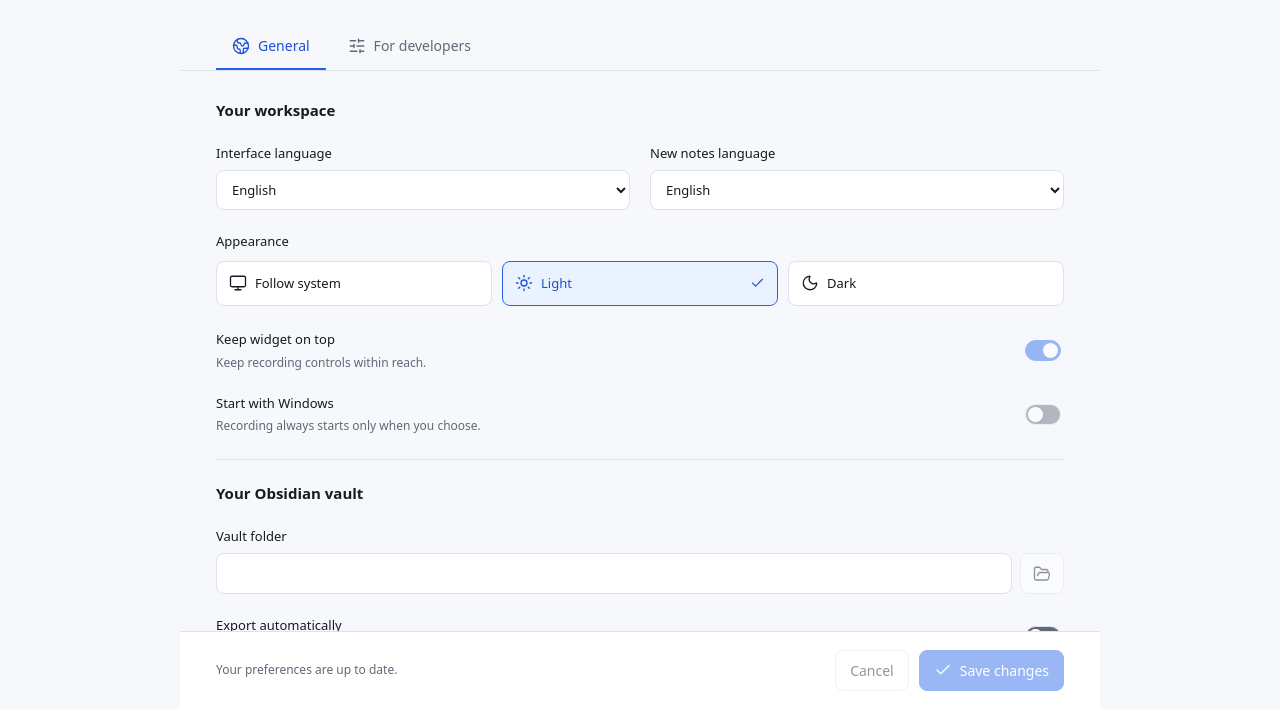
Test case: keeps edits visible after a save failure
Click the tab "For developers" at (409, 46), box 332,23 -> 487,70
(page scrolled)
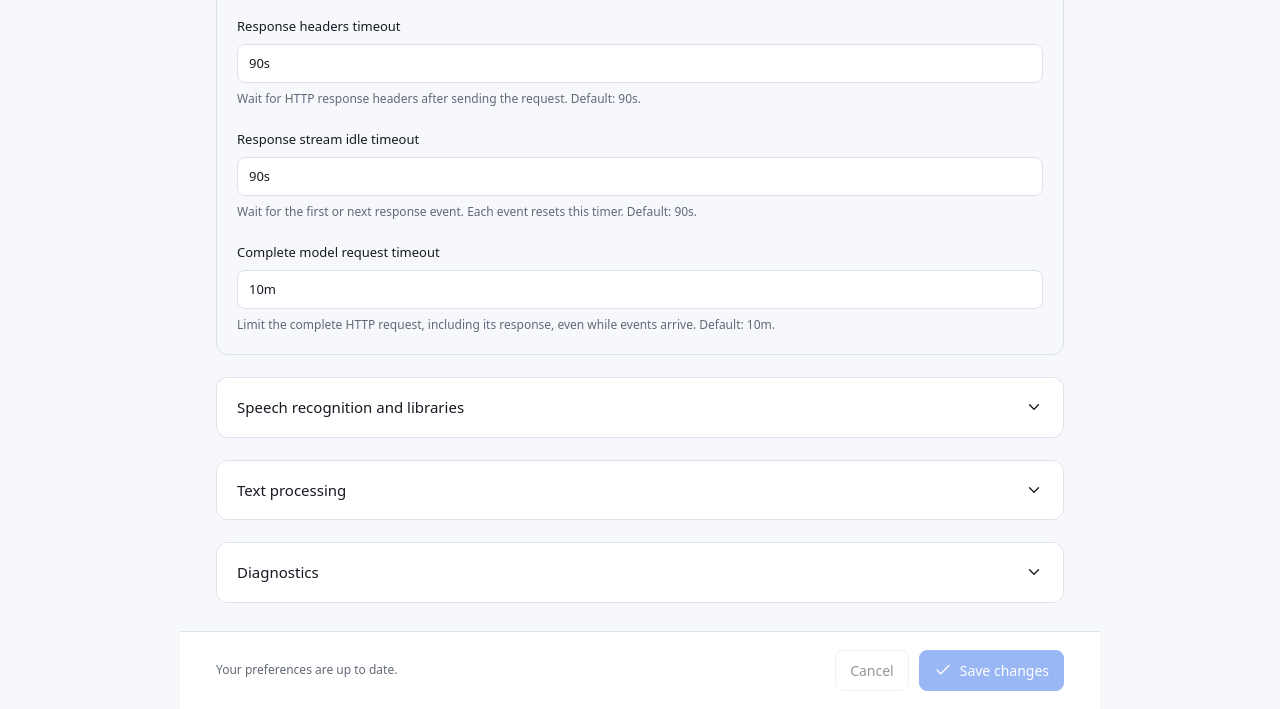
Click the button "Speech recognition and libraries" at (351, 407), box 217,378 -> 1063,436
(page scrolled)
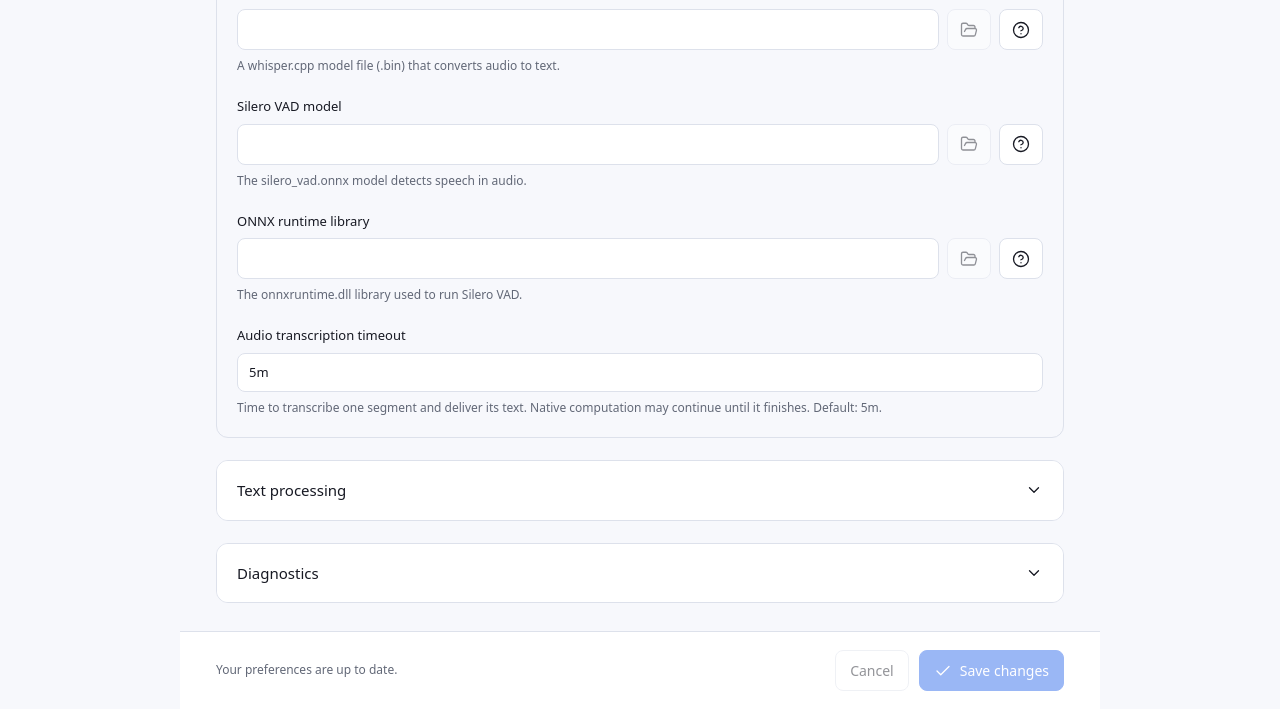
Clear the field labelled "Audio transcription timeout" at (640, 372), box 237,352 -> 1043,392
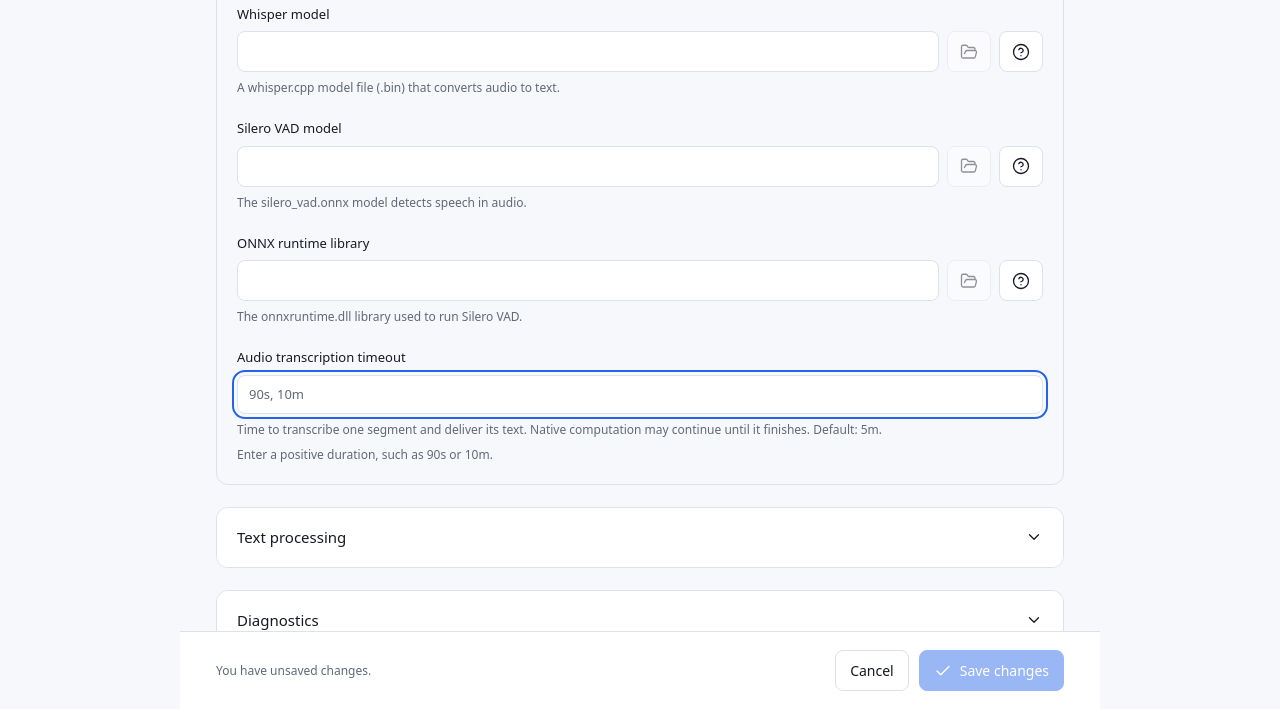
Type "8m" into the field labelled "Audio transcription timeout" at (640, 394), box 237,374 -> 1043,414
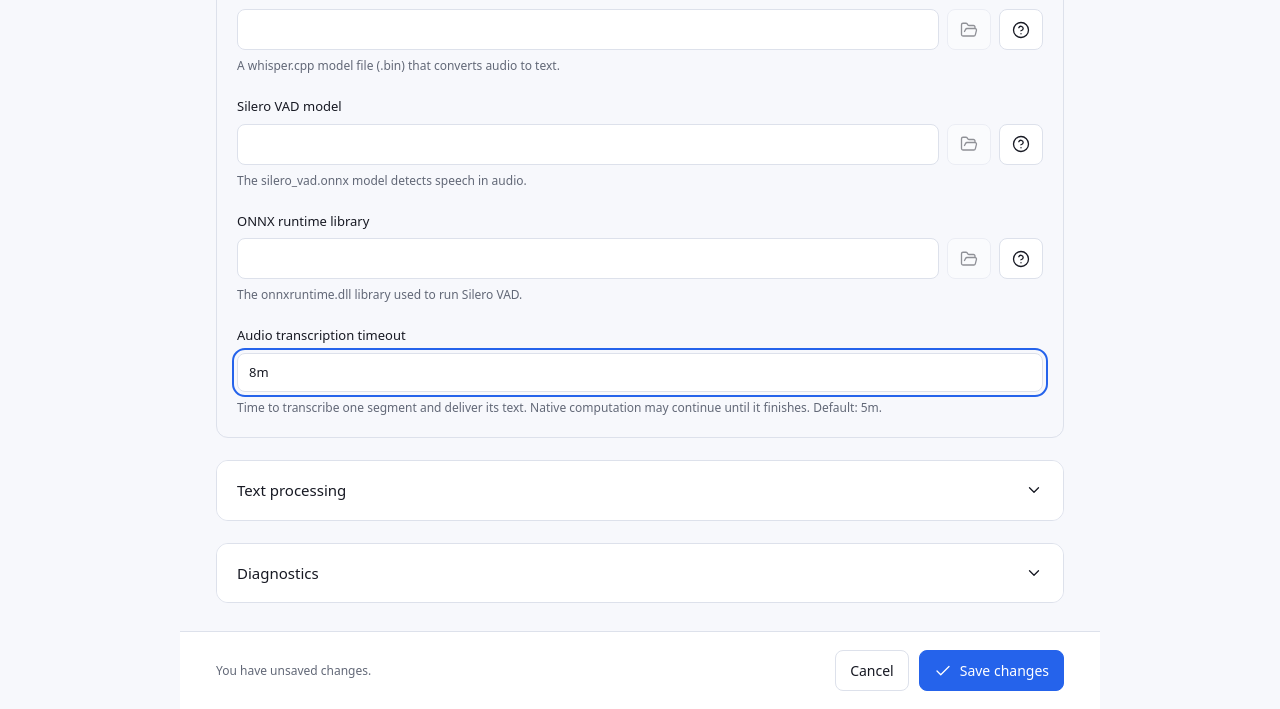
Click the button "Save changes" at (991, 670), box 919,650 -> 1064,691
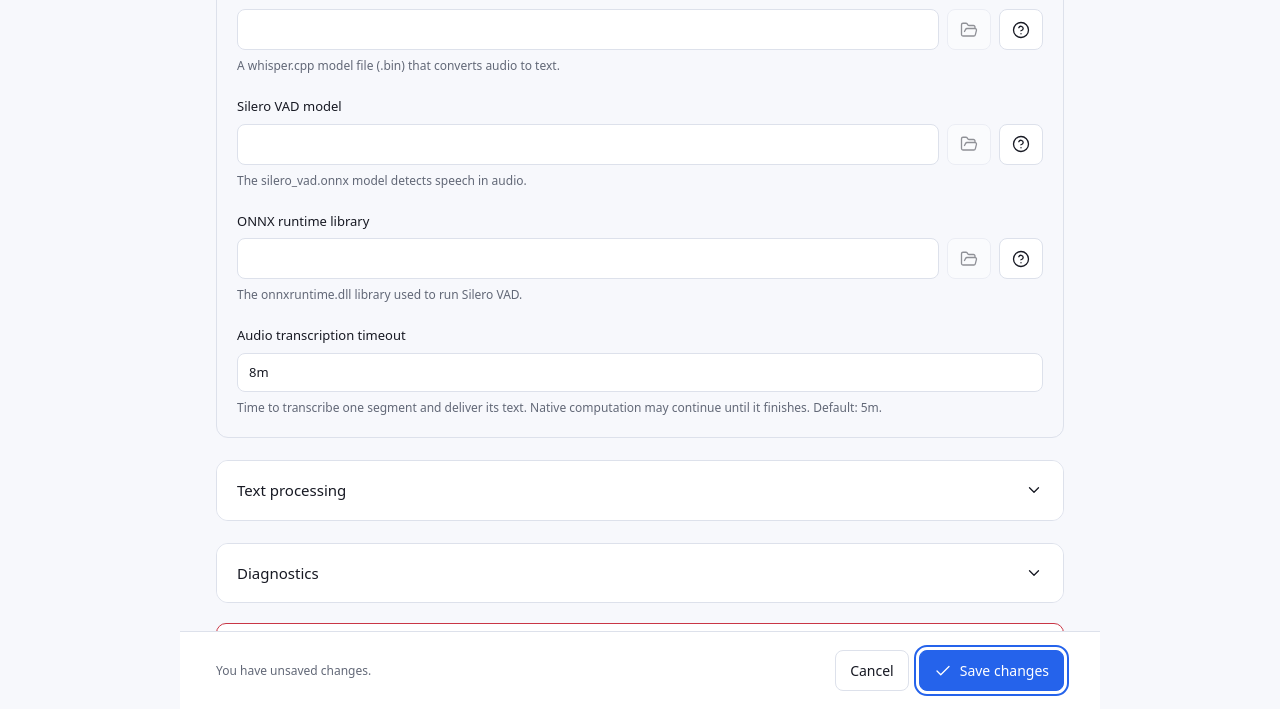
Result: the message "The action could not be completed. Please try again." is shown at 216,623 -> 1064,670
